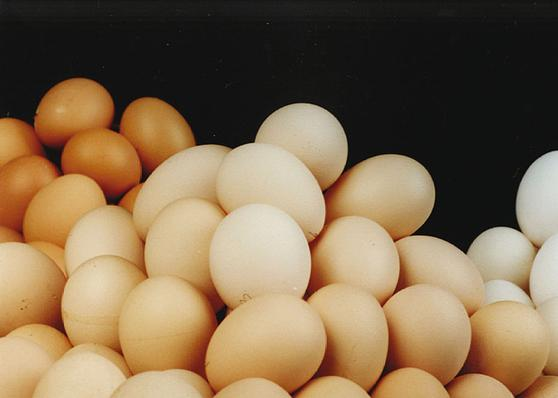egg: (203, 293, 330, 398), (211, 205, 312, 312), (375, 284, 474, 386), (117, 271, 211, 375), (223, 144, 329, 232), (330, 154, 438, 240), (33, 77, 111, 146)
